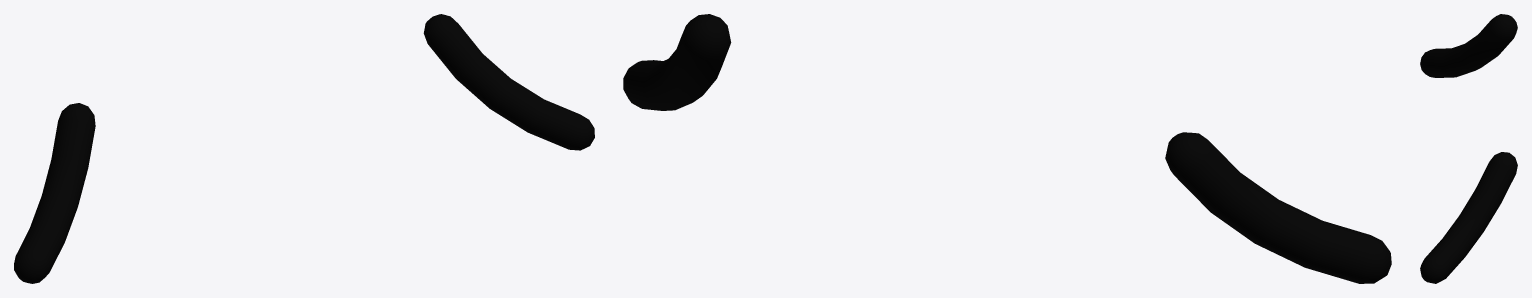
Rendered from Eyes_MM_Open_Mort.fbx.
The picture shows the model from 3 angles, left to right: view 1: azimuth 30°, elevation 25°; view 2: azimuth 150°, elevation 25°; view 3: azimuth 270°, elevation 25°; orthographic projection. The views are drawn at different scales.
Visible parts, largest first — view 1: Eyes_Open_Mort; view 2: Eyes_Open_Mort; view 3: Eyes_Open_Mort.
Boxes of the visible parts, x1=… form: Eyes_Open_Mort: x1=14, y1=14, x2=594, y2=283; Eyes_Open_Mort: x1=623, y1=14, x2=1391, y2=283; Eyes_Open_Mort: x1=1420, y1=14, x2=1517, y2=283.
Size of the model in its own units: 14.02 by 2.84 by 2.65.
Materials: 1 (1 with a texture image).
